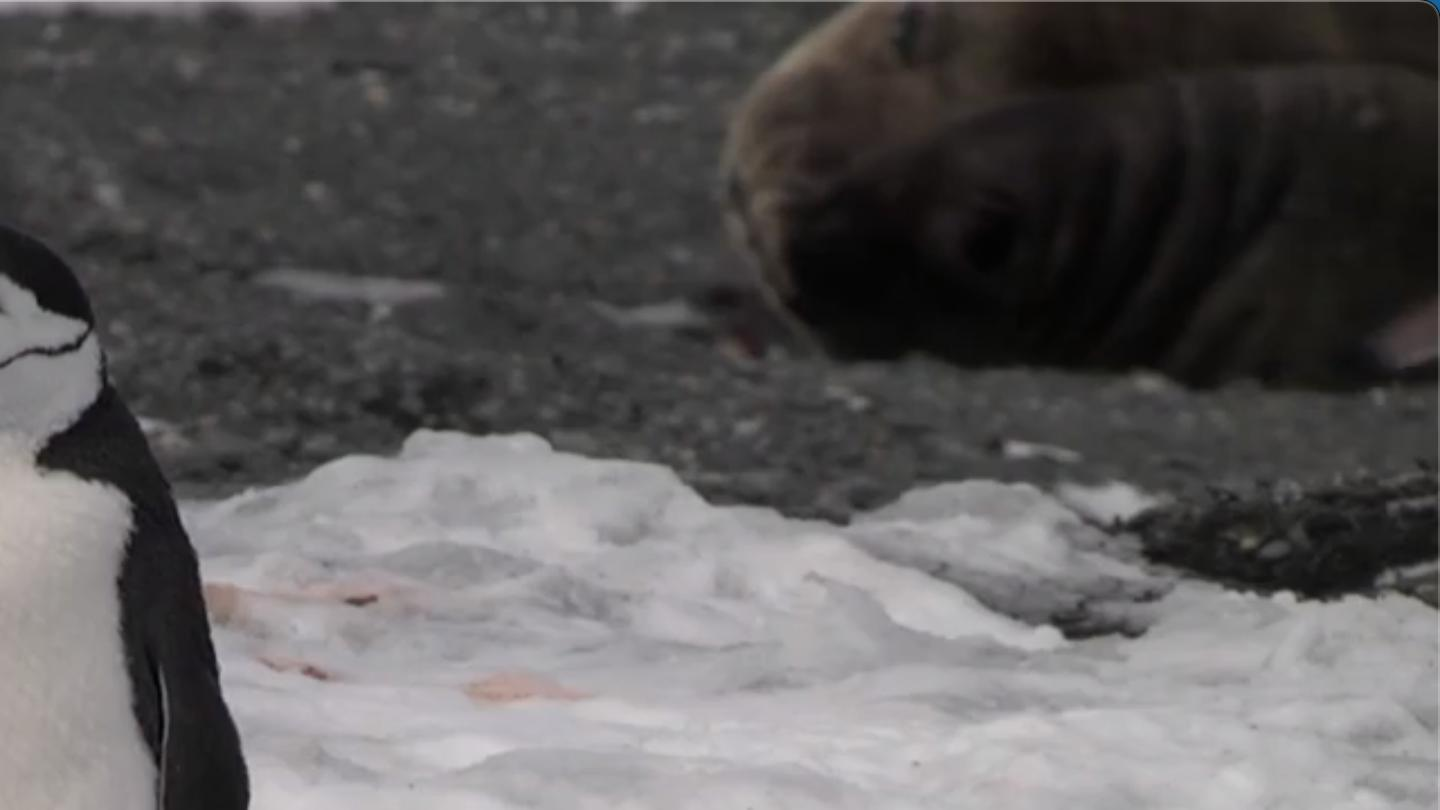Chinstrap Penguin: (0, 208, 246, 802), (0, 805, 587, 810)
